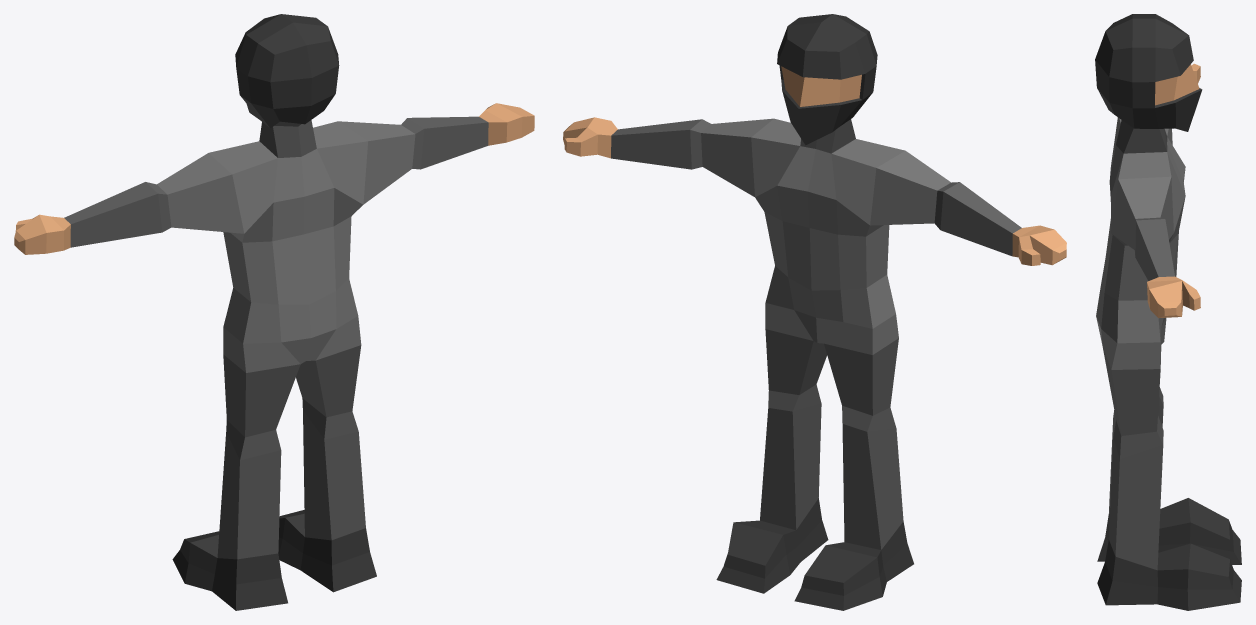
File: Guard.fbx
3 renders of one model, left to right at view 1: azimuth 30°, elevation 25°; view 2: azimuth 150°, elevation 25°; view 3: azimuth 270°, elevation 25°, orthographic. The views are drawn at different scales.
Visible parts, largest first — view 1: Main.006; view 2: Main.006; view 3: Main.006.
Part boxes in pixels (x1,y1,x2,y2): Main.006: (14, 14, 534, 610); Main.006: (563, 14, 1066, 610); Main.006: (1095, 14, 1241, 610).
Size of the model in its own units: 3.76 by 0.9411 by 3.92.
